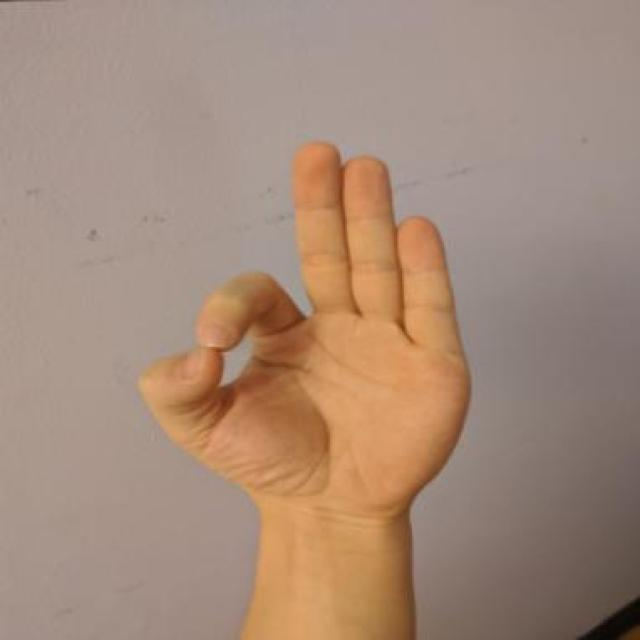F: (114, 132, 510, 573)
